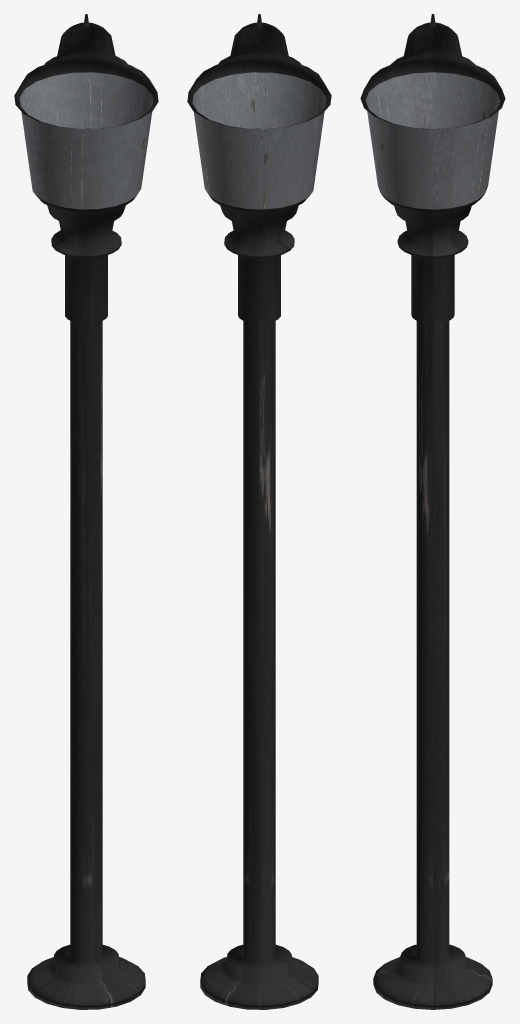
The model's file is lamp_post.fbx.
3 renders of one model, left to right at view 1: azimuth 30°, elevation 25°; view 2: azimuth 150°, elevation 25°; view 3: azimuth 270°, elevation 25°, orthographic.
Parts seen in each view (by area): view 1: lamp_post; view 2: lamp_post; view 3: lamp_post.
Boxes of the visible parts, left/top/right/bottom form: lamp_post: left=14, top=14, right=158, bottom=1009; lamp_post: left=187, top=14, right=331, bottom=1009; lamp_post: left=360, top=14, right=505, bottom=1009.
Bounding box in the file's own units: 3.44 × 25.4 × 3.44.
